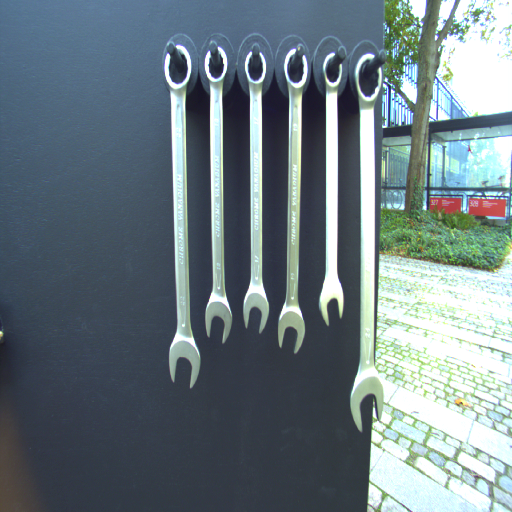bottom: (347, 369, 385, 432), (165, 330, 202, 391), (275, 300, 308, 356), (316, 278, 347, 332), (204, 291, 233, 344), (241, 283, 271, 334)
top: (352, 52, 382, 105), (162, 41, 194, 90), (201, 44, 231, 85), (282, 48, 309, 92), (243, 47, 269, 89), (322, 51, 343, 93)
